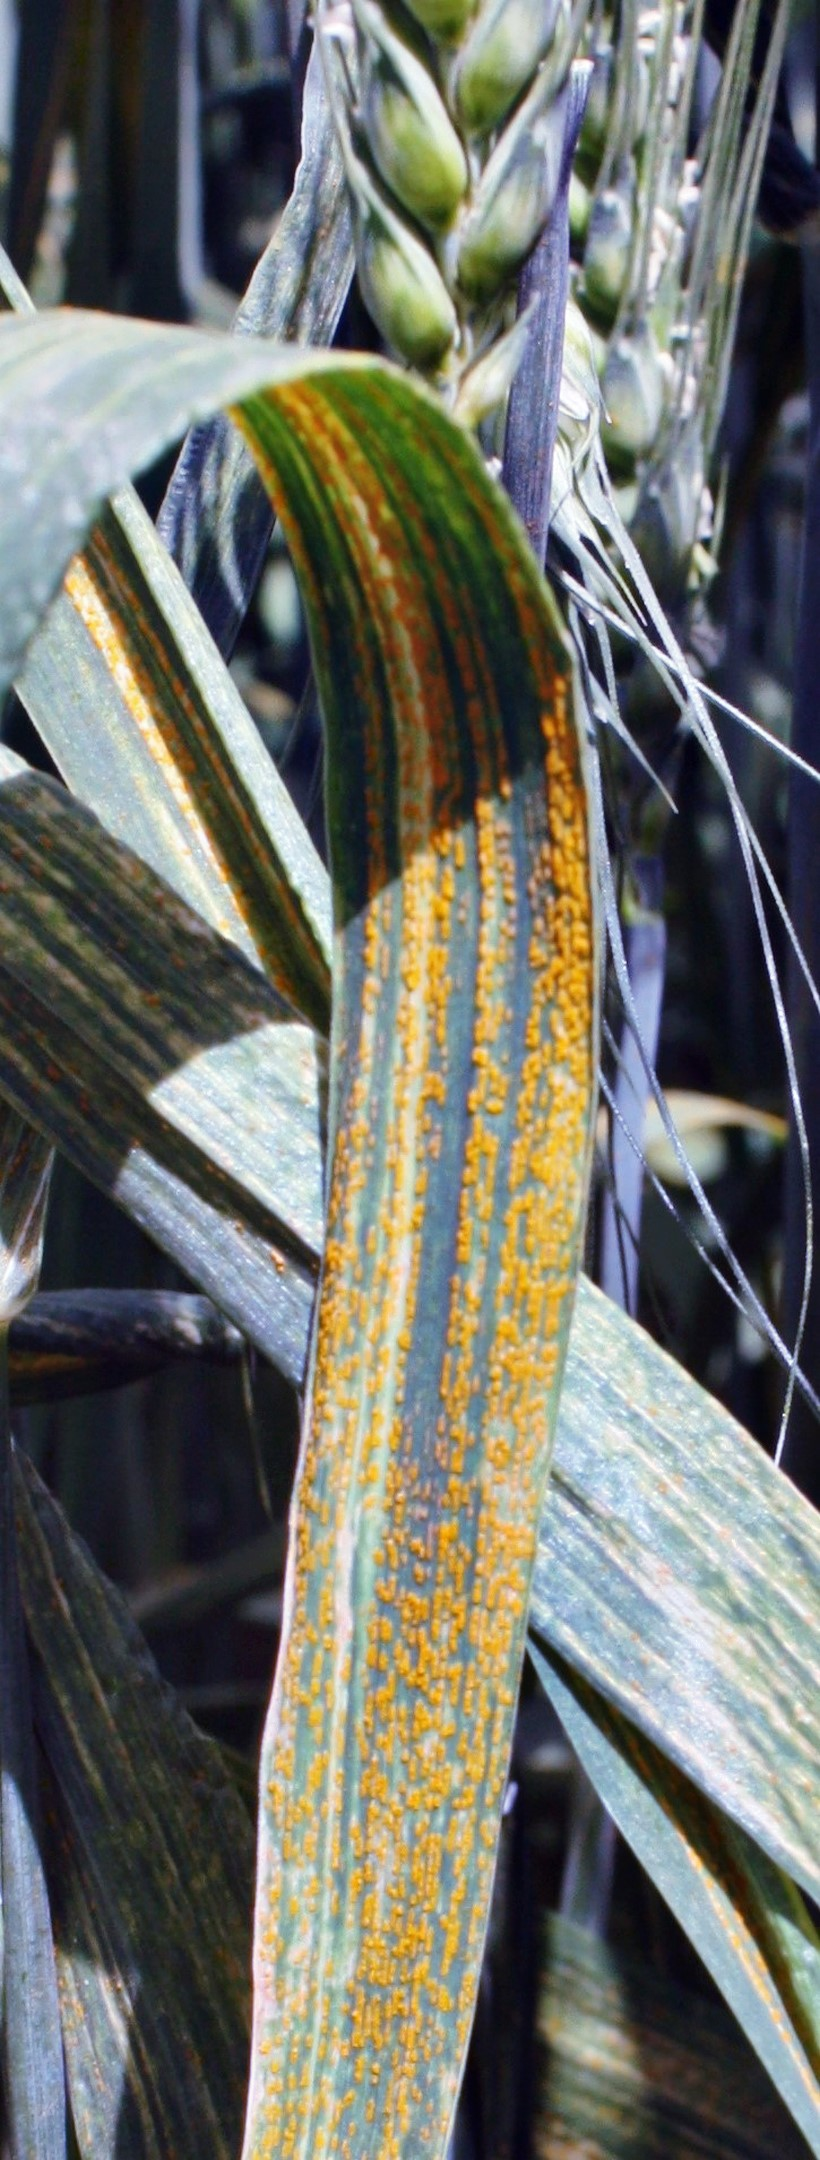Leaf Rust: (256, 558, 616, 2019)
